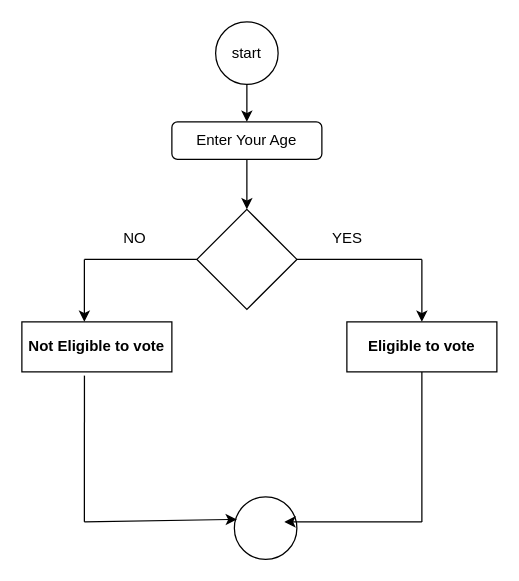
The diagram is 519 pixels wide and 581 high, and some of its shapes have lost their labels. Here are the shapes that lost their labels. From the top down, the box of each, then its label:
(196, 208, 297, 309): Age>=18
(233, 496, 297, 559): End
